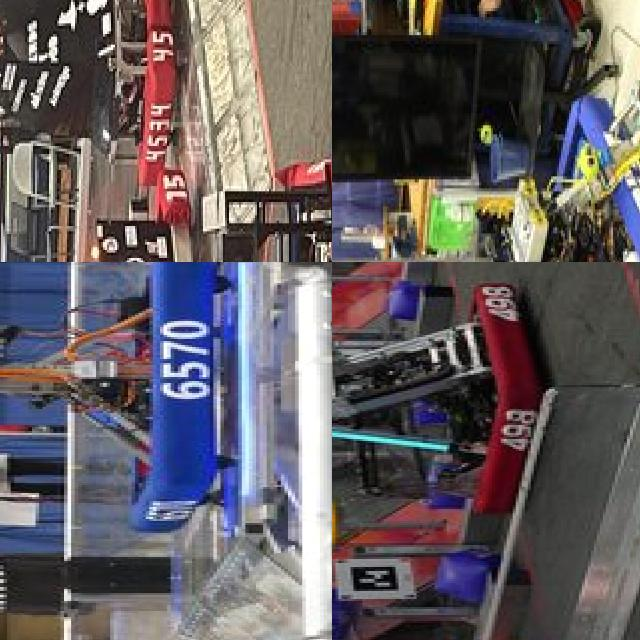FRC-Robots: (332, 6, 640, 262), (0, 262, 226, 566), (332, 268, 562, 507), (0, 0, 191, 177), (1, 166, 197, 262), (221, 96, 332, 262)
